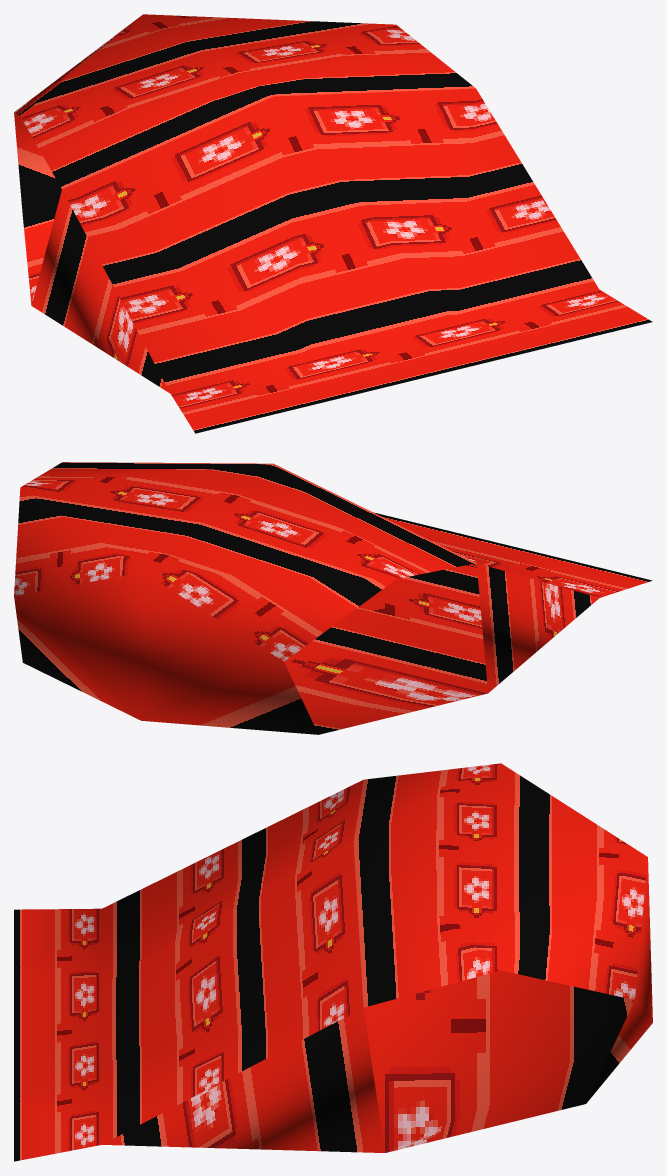
Rendered from 1670top000_c.gltf.
The picture shows the model from 3 angles, top to bottom: view 1: azimuth 30°, elevation 25°; view 2: azimuth 150°, elevation 25°; view 3: azimuth 270°, elevation 25°; orthographic projection. The views are drawn at different scales.
Parts seen in each view (by area): view 1: 1670top000_c; view 2: 1670top000_c; view 3: 1670top000_c.
Boxes of the visible parts, left/top/right/bottom form: 1670top000_c: left=14, top=14, right=652, bottom=433; 1670top000_c: left=14, top=462, right=652, bottom=734; 1670top000_c: left=14, top=763, right=652, bottom=1161.
Bounding box in the file's own units: 0.7598 × 0.2717 × 0.814.
1 material, 1 textured.
